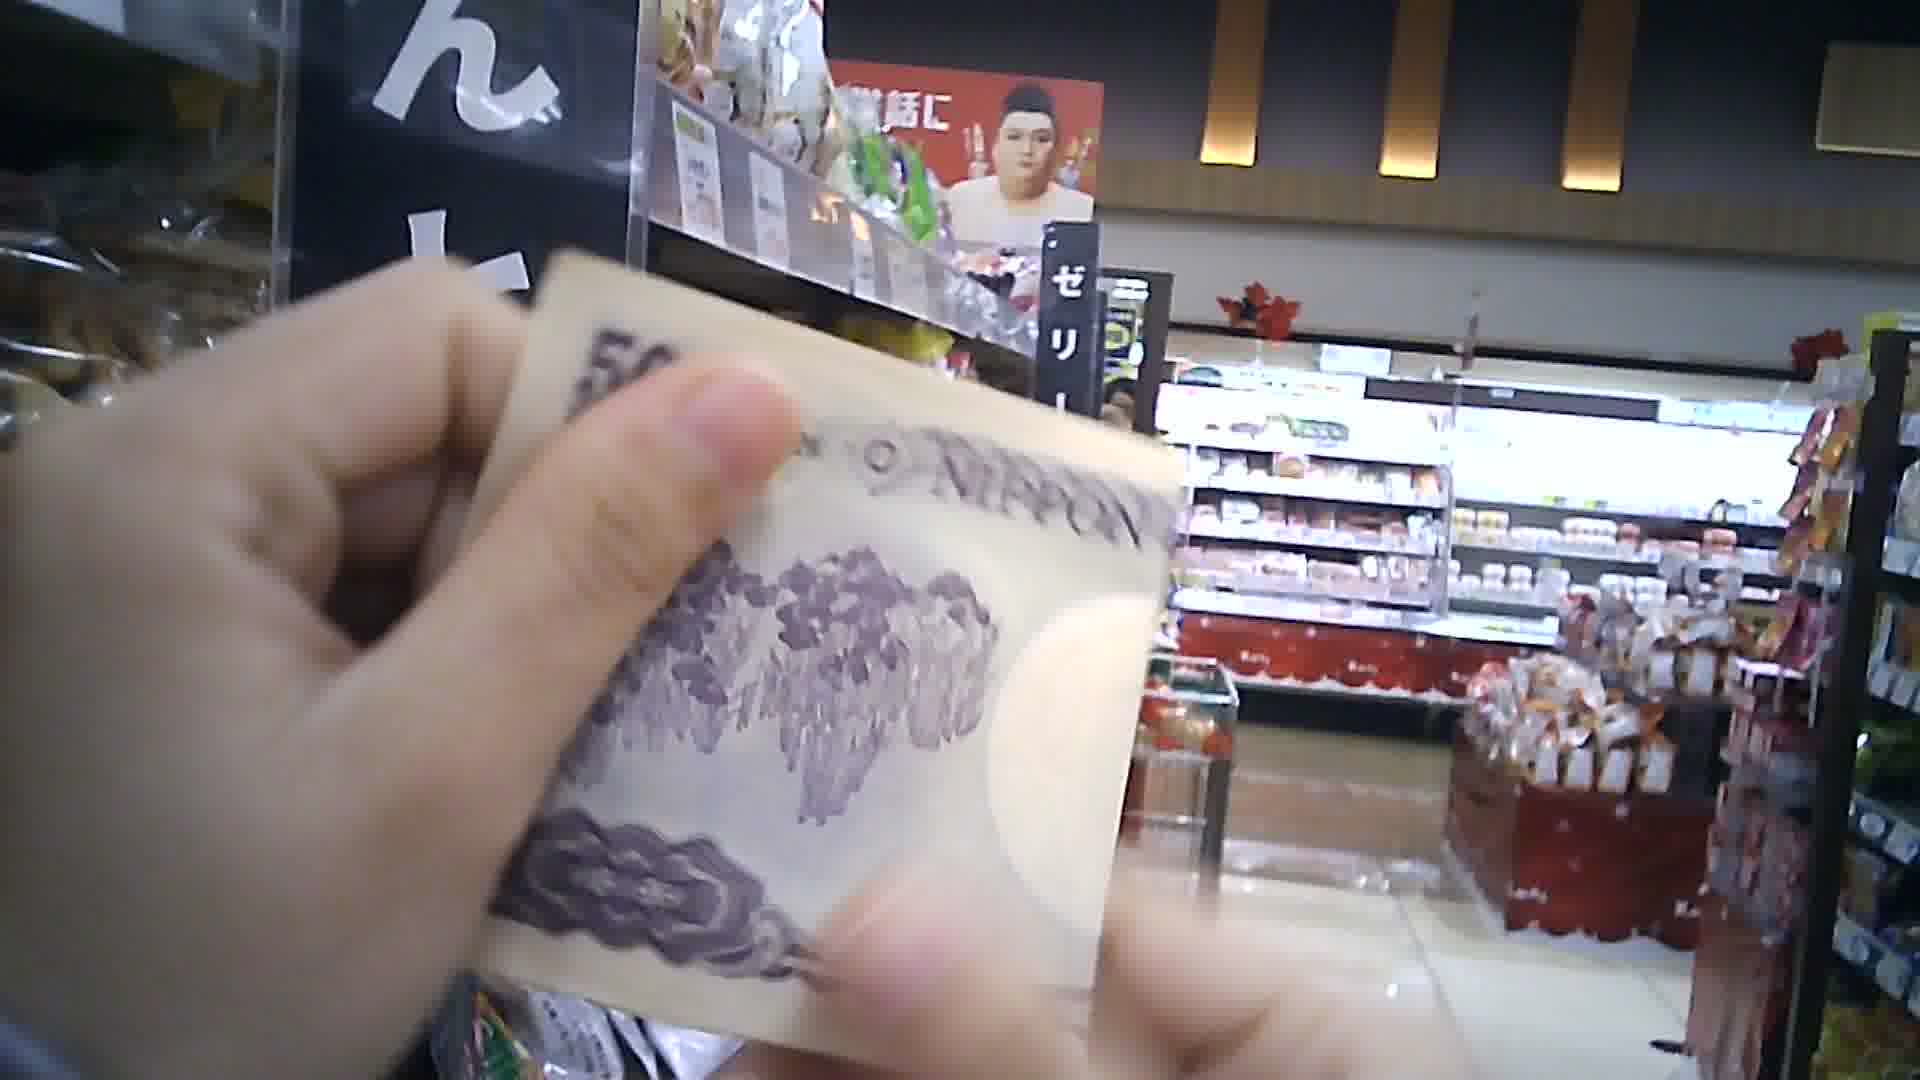5,000 Yen: (392, 253, 1178, 1079)
